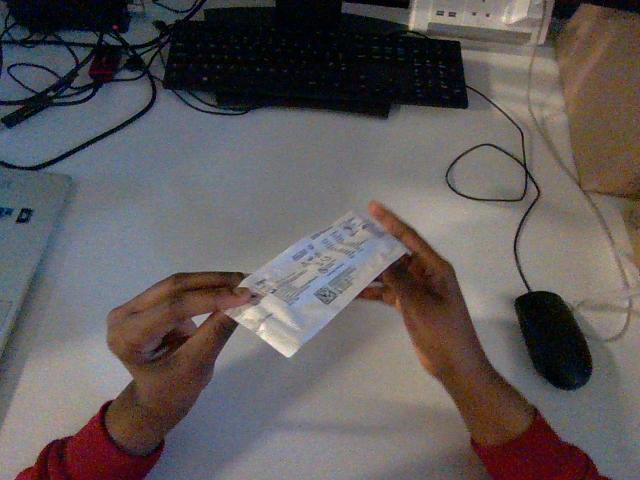syringe: (225, 212, 408, 356)
